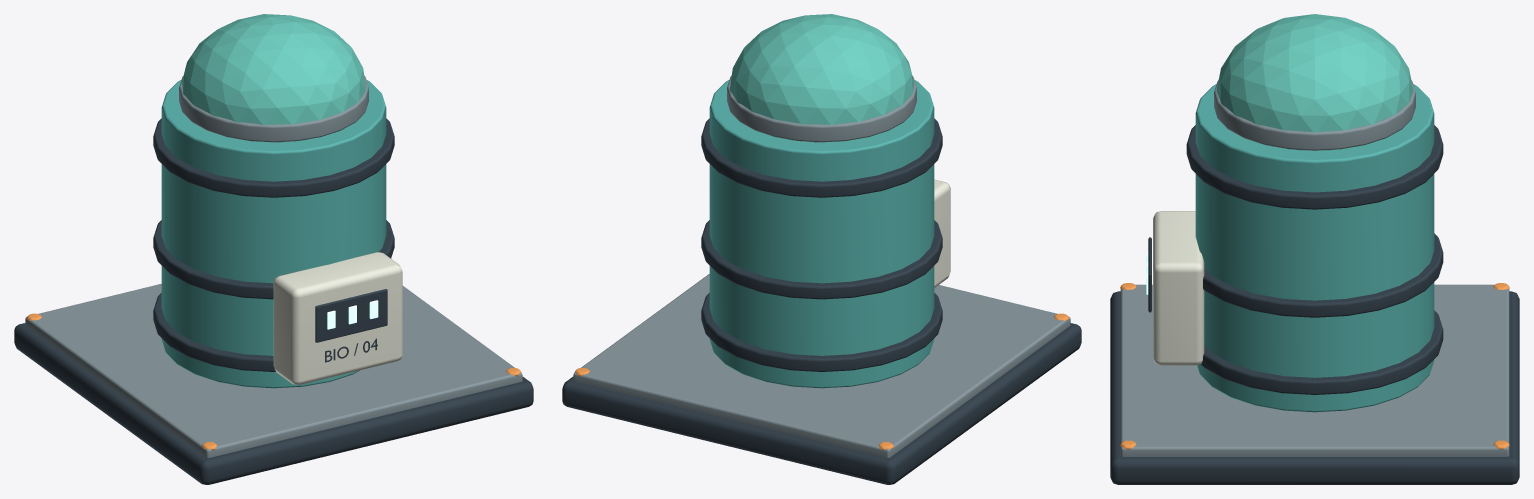
The model's file is biolab.glb.
3 views of the same model, side by side, from view 1: azimuth 30°, elevation 25°; view 2: azimuth 150°, elevation 25°; view 3: azimuth 270°, elevation 25° (orthographic). The views are drawn at different scales.
Parts seen in each view (by area): view 1: Main pressure tank, Inset apron, Foundation graphite, Biodome, Service cabinet; view 2: Main pressure tank, Inset apron, Foundation graphite, Biodome, Service cabinet; view 3: Main pressure tank, Inset apron, Foundation graphite, Biodome, Service cabinet.
Boxes of the visible parts, x1,y1,x2,y2 form: Main pressure tank: (161,80,386,388); Inset apron: (25,76,522,457); Foundation graphite: (14,118,533,484); Biodome: (182,14,365,142); Service cabinet: (273,252,402,384); Main pressure tank: (709,80,934,388); Inset apron: (573,76,1070,457); Foundation graphite: (562,118,1081,484); Biodome: (730,14,913,142); Service cabinet: (934,179,950,287); Main pressure tank: (1195,84,1434,412); Inset apron: (1120,80,1509,456); Foundation graphite: (1110,125,1519,484); Biodome: (1216,14,1413,150); Service cabinet: (1153,211,1204,365).
Size of the model in its own units: 3.6 by 3.65 by 3.6.
